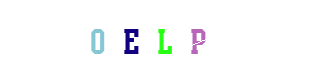E: (105, 0, 185, 80)
L: (115, 0, 195, 80)
O: (91, 0, 171, 80)
P: (123, 0, 203, 80)
